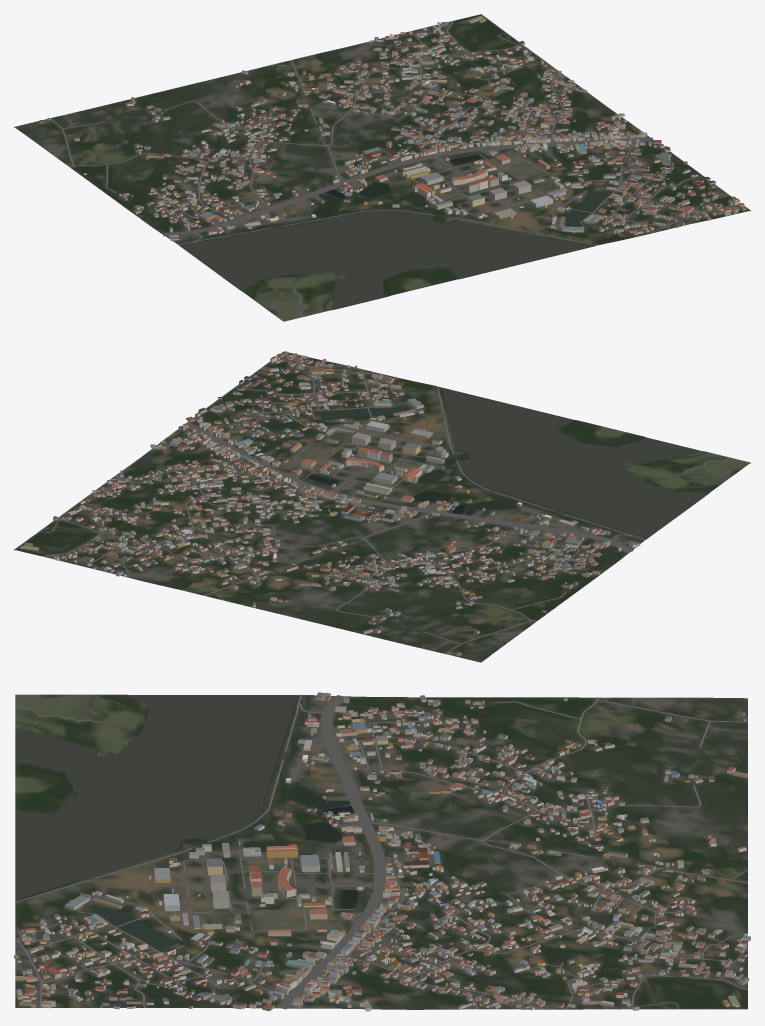
3 views of the same model, one above another, from view 1: azimuth 30°, elevation 25°; view 2: azimuth 150°, elevation 25°; view 3: azimuth 270°, elevation 25° (orthographic). The views are drawn at different scales.
Visible parts, largest first — view 1: ground, buildings, water, roads; view 2: ground, buildings, water, roads; view 3: ground, buildings, water, roads.
Part boxes in pixels (bbox=[...]): ground: bbox=[14, 14, 750, 321]; buildings: bbox=[39, 16, 746, 241]; water: bbox=[180, 154, 609, 308]; roads: bbox=[50, 21, 738, 316]; ground: bbox=[14, 351, 750, 662]; buildings: bbox=[20, 351, 640, 655]; water: bbox=[308, 387, 707, 538]; roads: bbox=[39, 355, 730, 653]; ground: bbox=[15, 694, 747, 1009]; buildings: bbox=[14, 692, 750, 1011]; water: bbox=[15, 695, 358, 948]; roads: bbox=[15, 694, 748, 1009].
Size of the model in its own units: 1419 by 33.67 by 1410.
